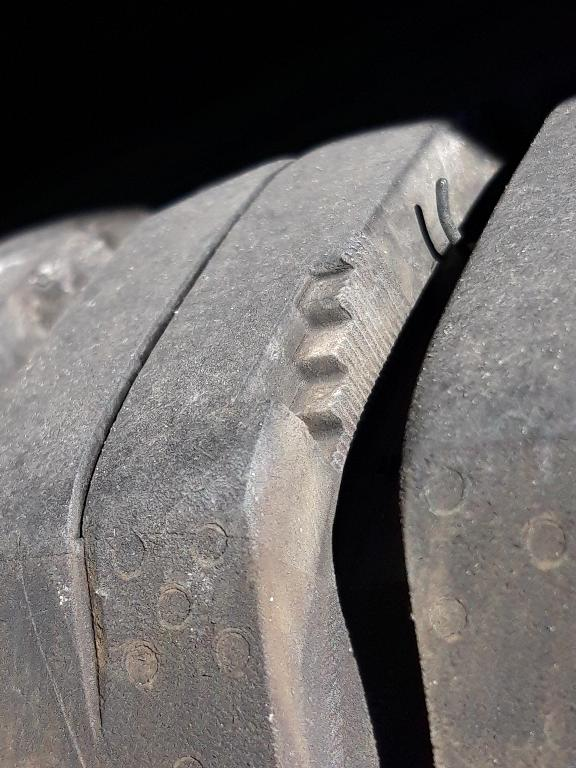temoin:80: (227, 227, 420, 488)
